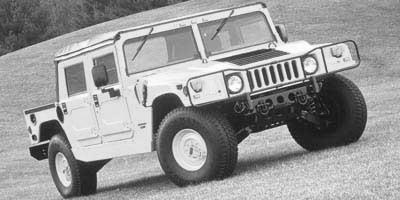car: (24, 1, 368, 199)
